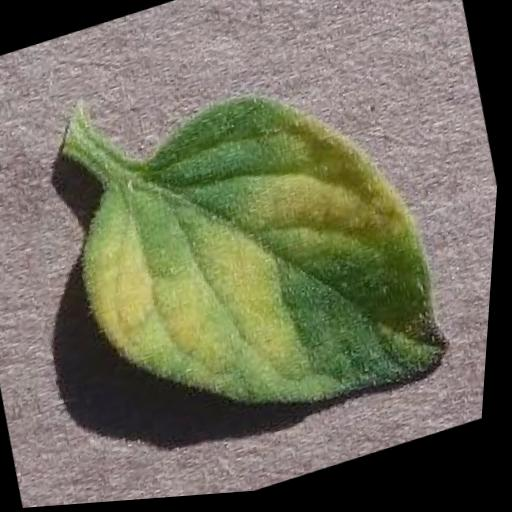Leaf Mold: (46, 52, 476, 485)
